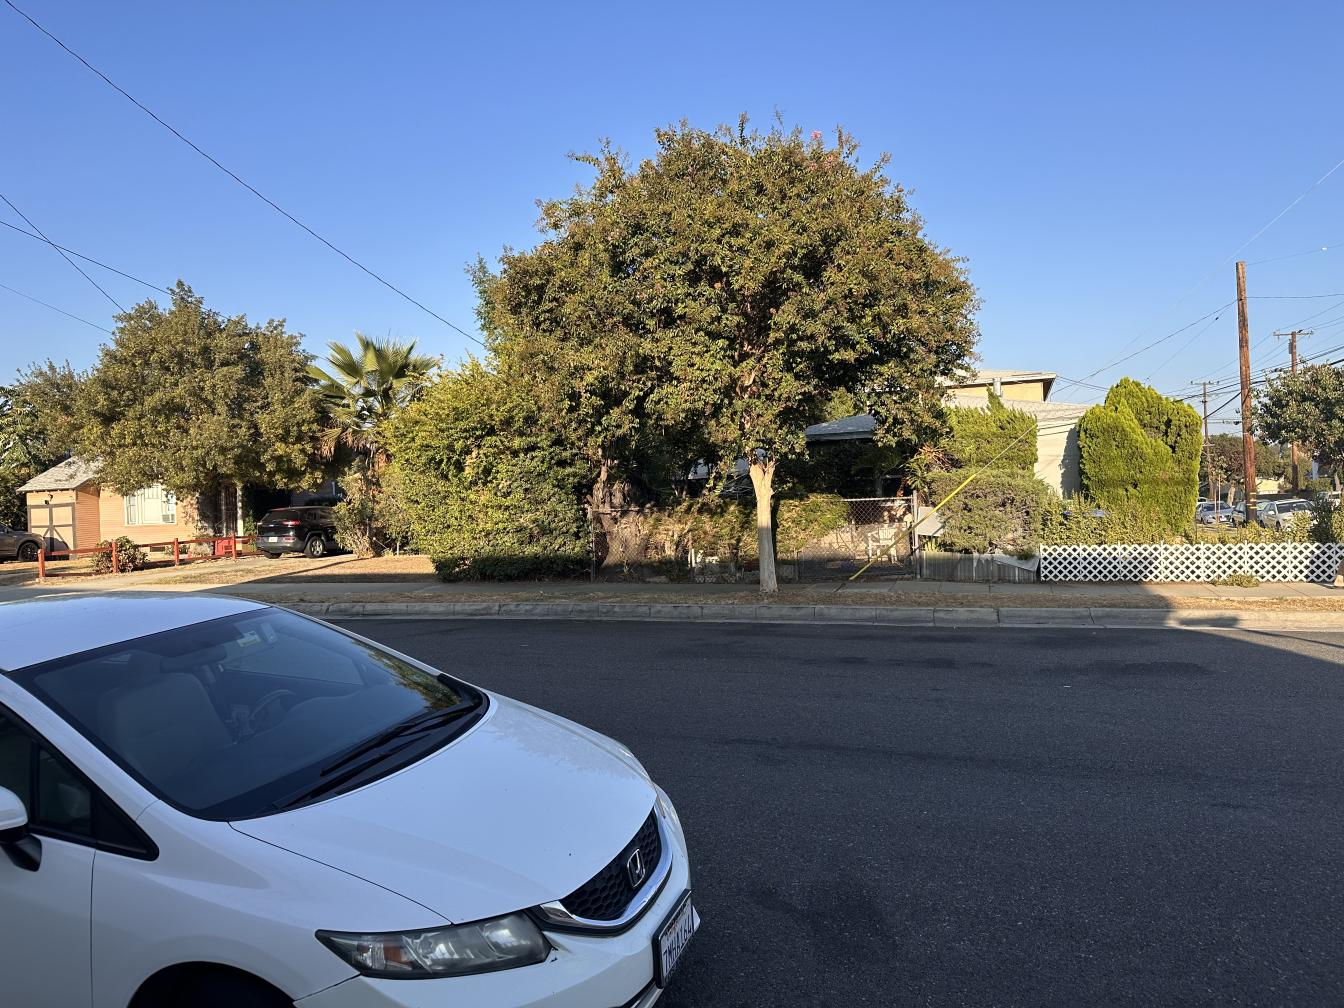curbs-laRr: (328, 602, 1344, 623)
